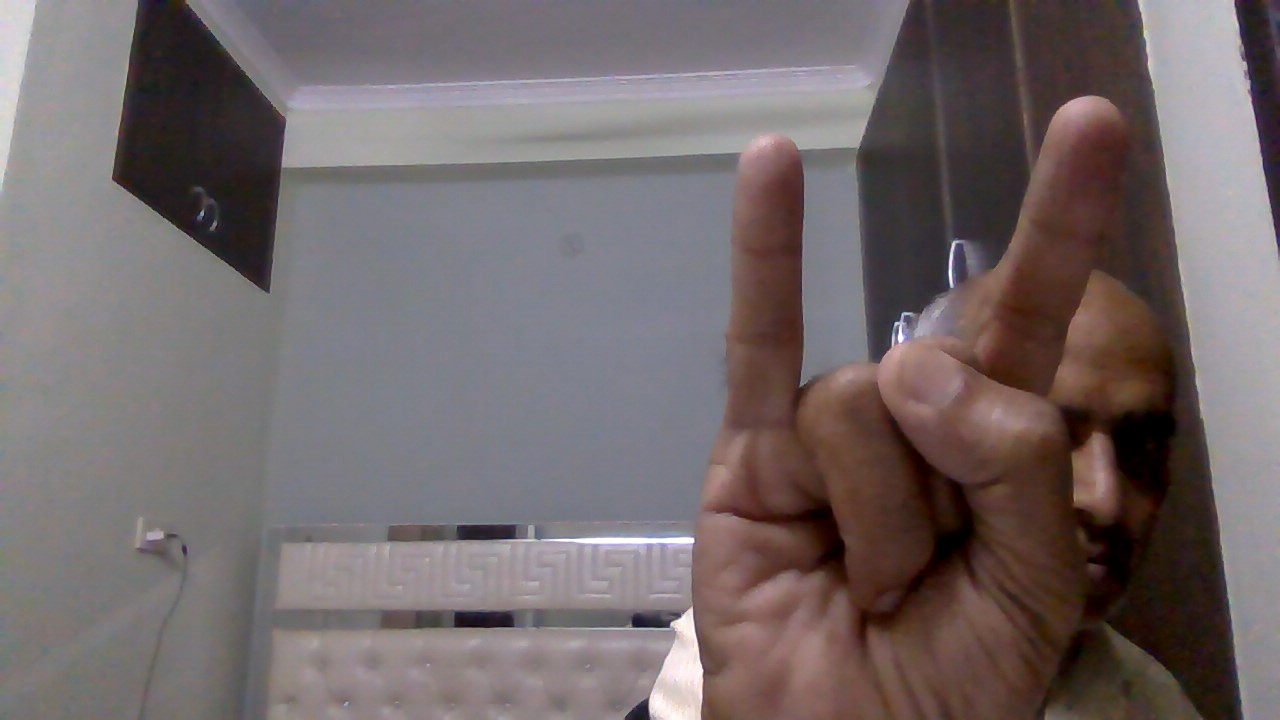Select All: (686, 84, 1137, 719)
